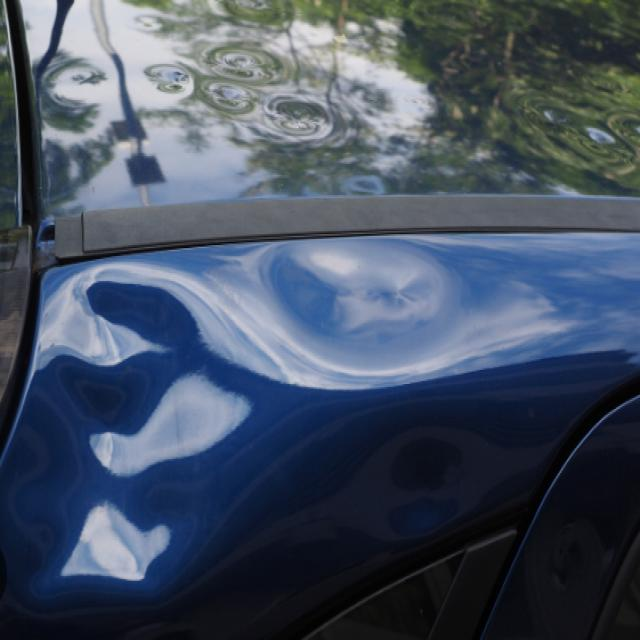dents: (25, 273, 245, 601), (245, 248, 523, 356), (367, 431, 483, 539)
